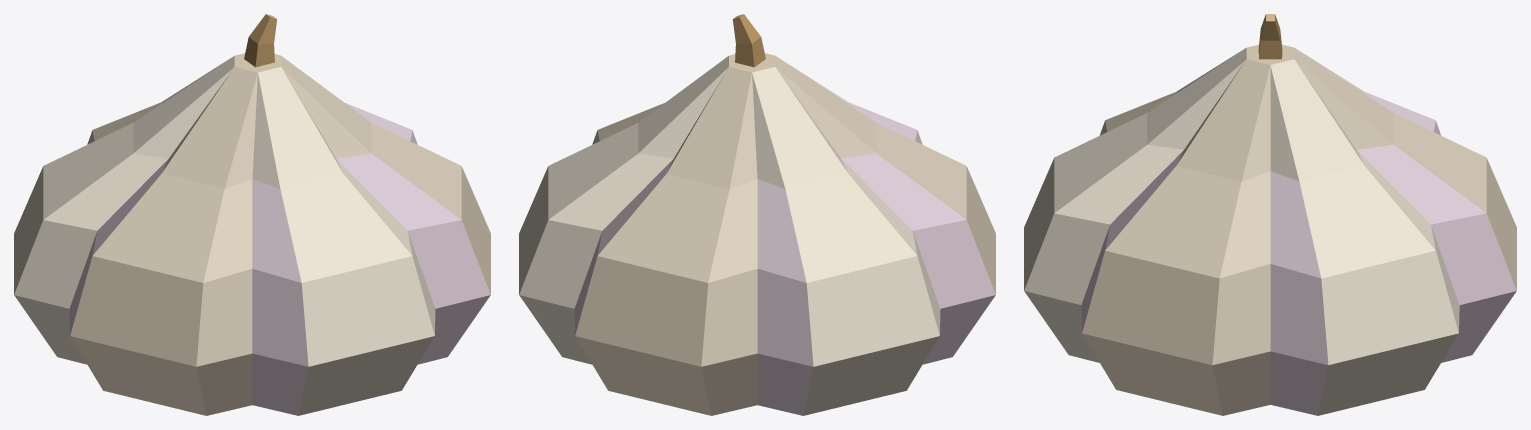
The model's file is FMS_Veg_Garlic.fbx.
3 views of the same model, side by side, from view 1: azimuth 30°, elevation 25°; view 2: azimuth 150°, elevation 25°; view 3: azimuth 270°, elevation 25° (orthographic). The views are drawn at different scales.
Visible parts, largest first — view 1: item_produce_garlic; view 2: item_produce_garlic; view 3: item_produce_garlic.
Part boxes in pixels (x1,y1,x2,y2): item_produce_garlic: [14, 14, 490, 415]; item_produce_garlic: [519, 14, 995, 415]; item_produce_garlic: [1024, 14, 1516, 415].
Size of the model in its own units: 0.0618 by 0.0489 by 0.0606.
1 material, 1 textured.
